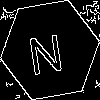N: (25, 25, 66, 75)
